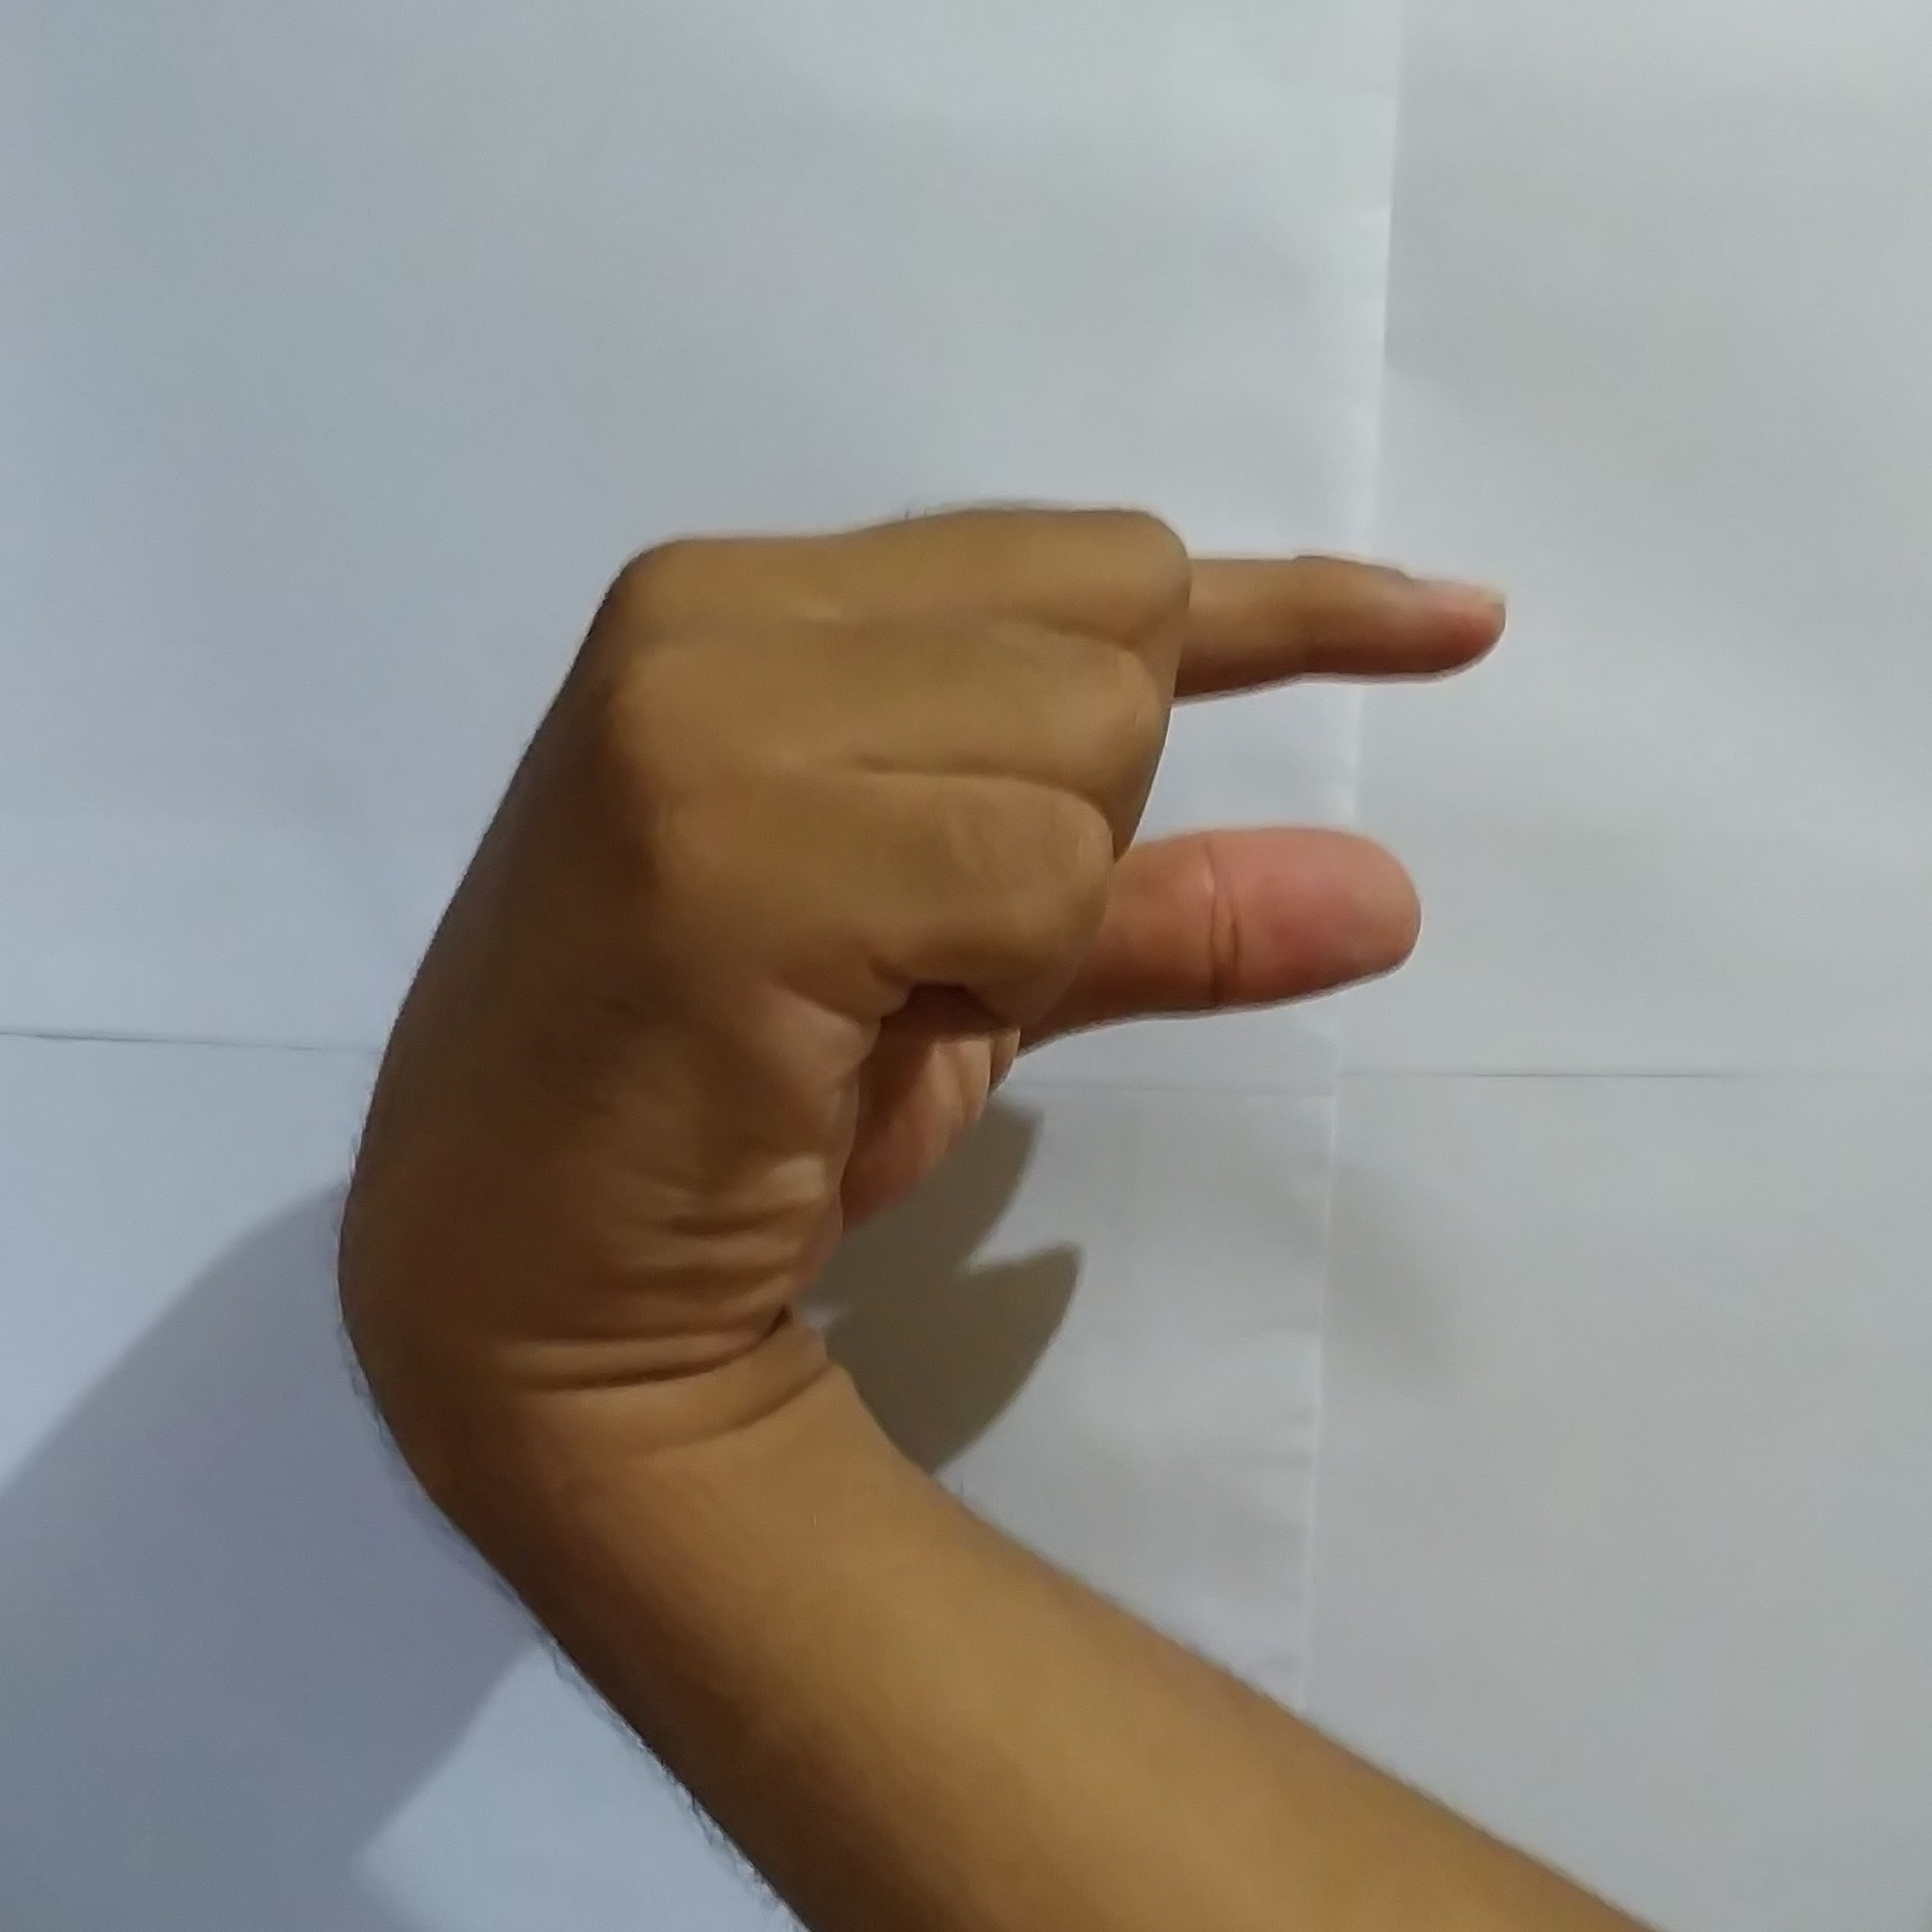G: (340, 483, 1523, 1292)
